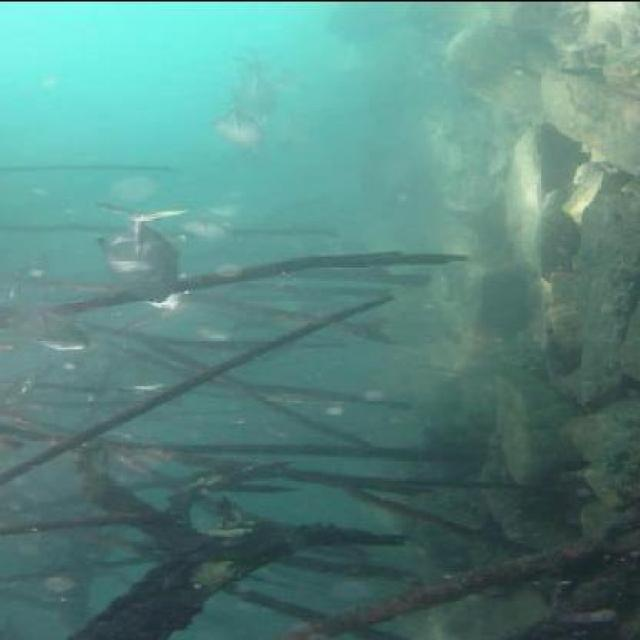Caranx_sexfasciatus_juvenile: (99, 204, 193, 304), (216, 54, 286, 121), (25, 308, 104, 362), (198, 106, 268, 162), (118, 378, 185, 411), (152, 283, 199, 322)
